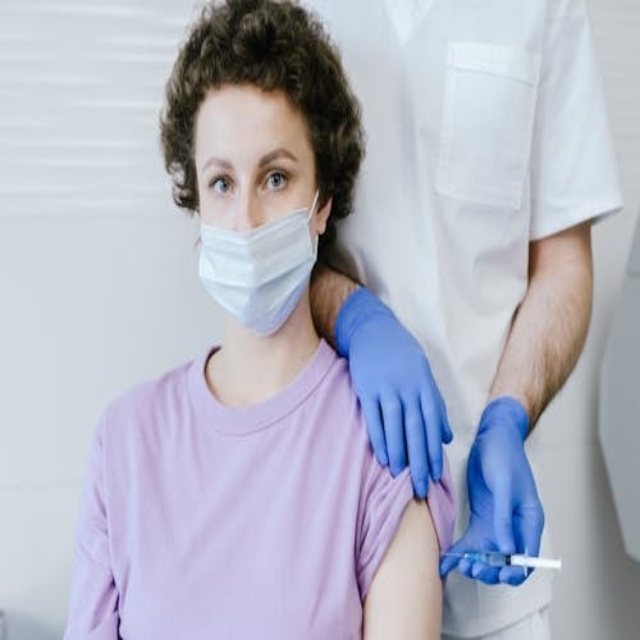Guantes: (333, 288, 455, 495), (440, 394, 545, 586)
Mascara: (197, 186, 322, 335)
Sin_gafas: (262, 168, 290, 191), (208, 173, 235, 196)
